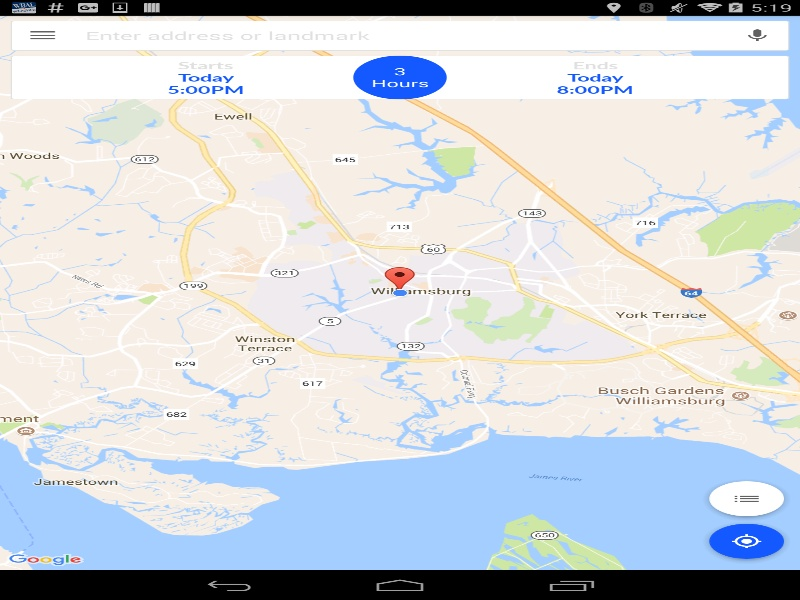Button: (693, 512, 800, 570), (693, 470, 800, 527), (10, 20, 74, 50), (725, 20, 789, 50)
Input: (74, 20, 725, 50)
